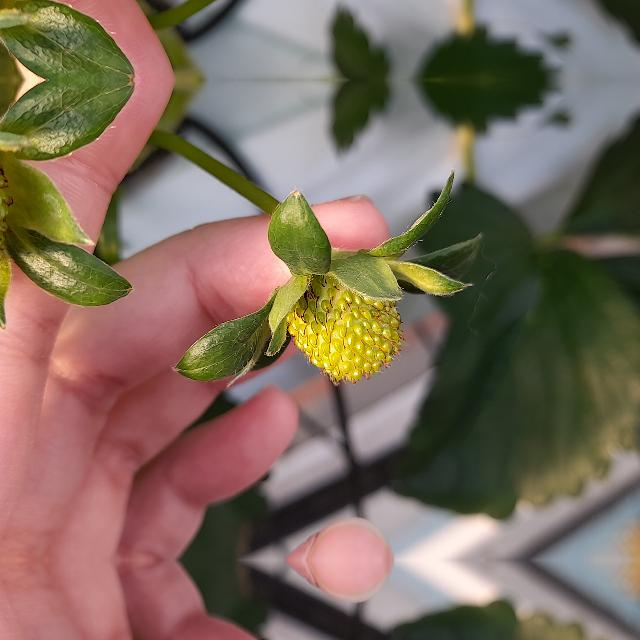Health_25: (285, 274, 405, 386)
